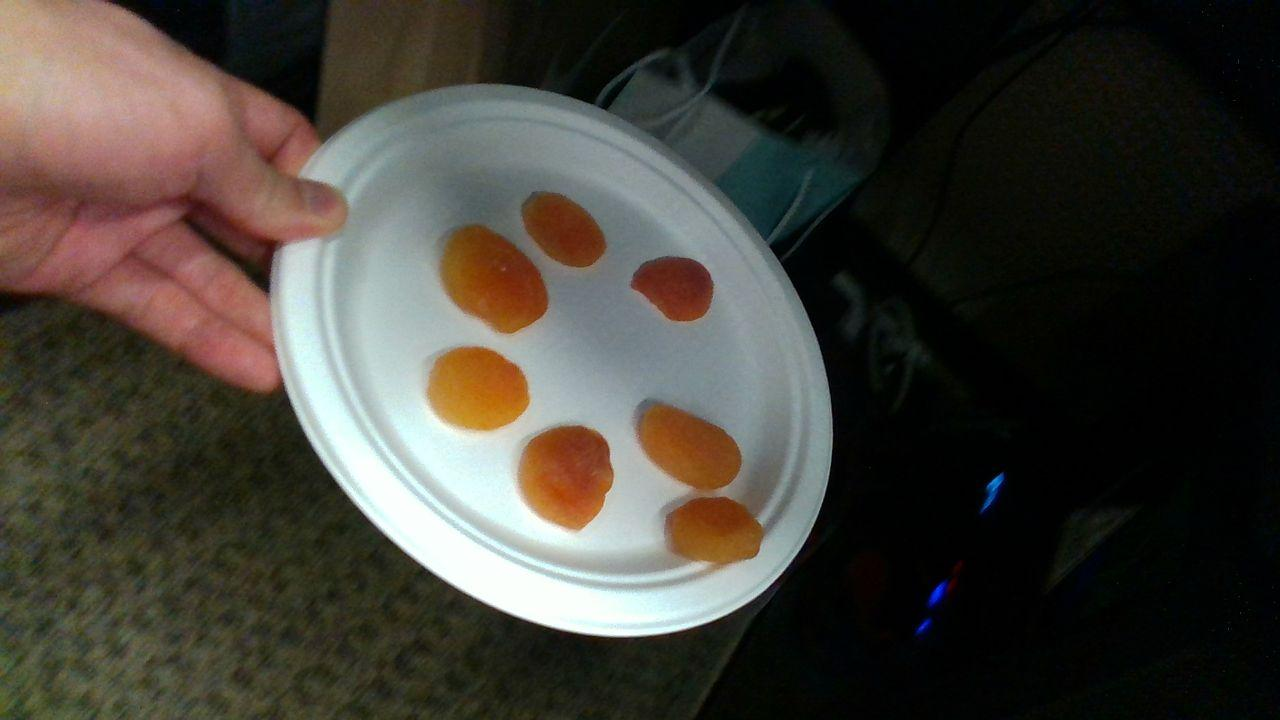apricot: (441, 228, 548, 333), (519, 426, 613, 530), (428, 347, 530, 428), (643, 406, 741, 489), (526, 192, 604, 265), (672, 498, 762, 561), (634, 257, 712, 320)
